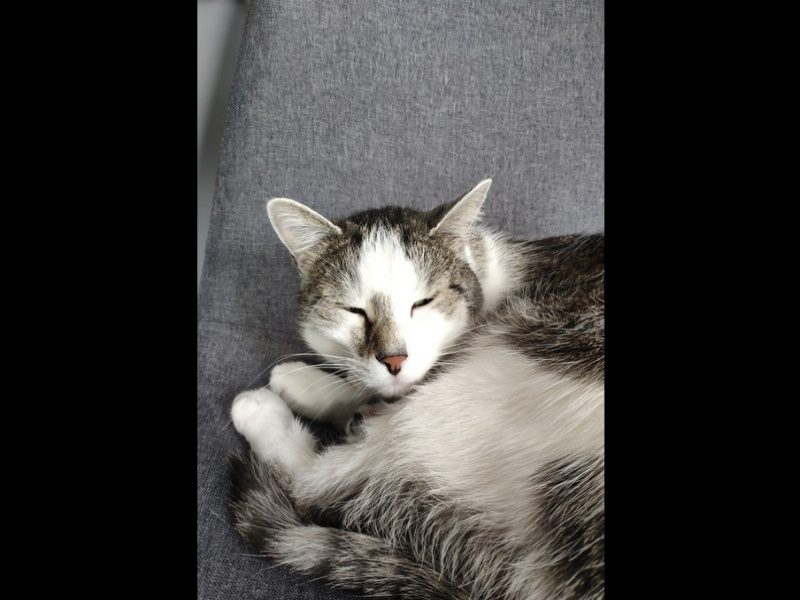cat: (224, 185, 604, 599)
